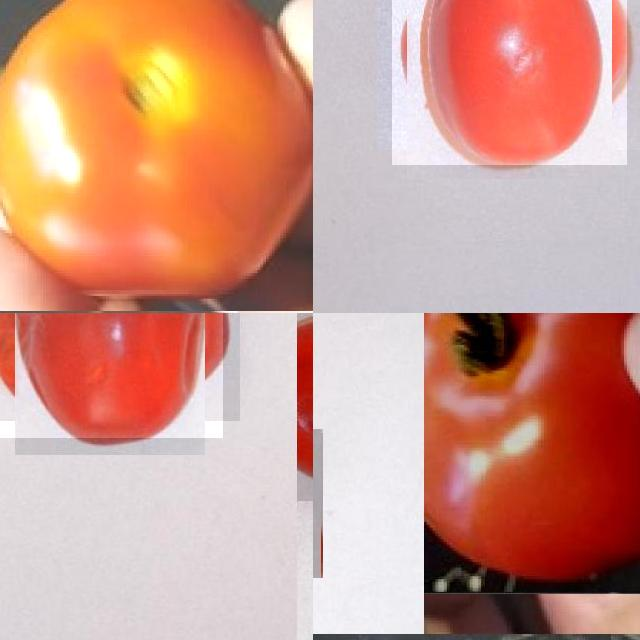0: (0, 0, 313, 313)
Fresh Tomato: (424, 313, 640, 593), (391, 0, 627, 164)
Rotten Tomato: (0, 313, 222, 438)
